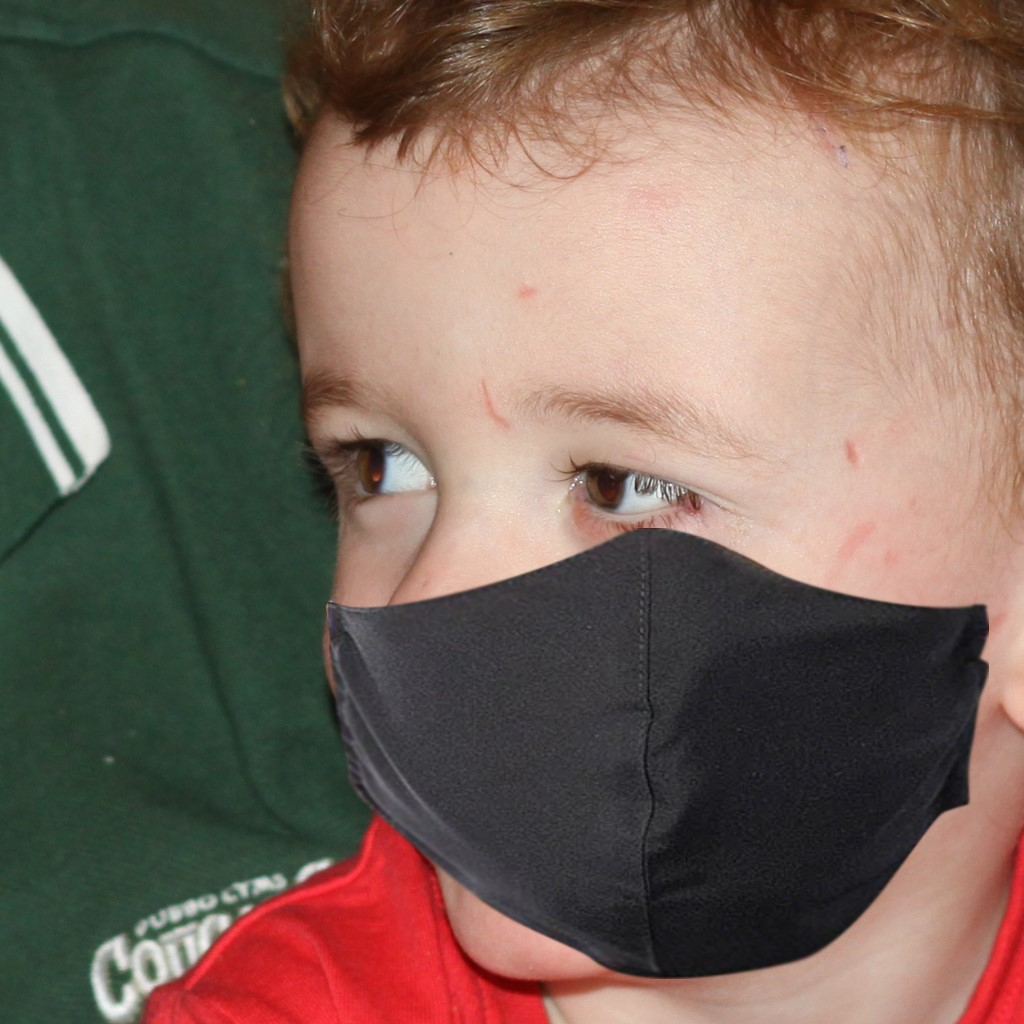con_mascara: (287, 65, 964, 947)
